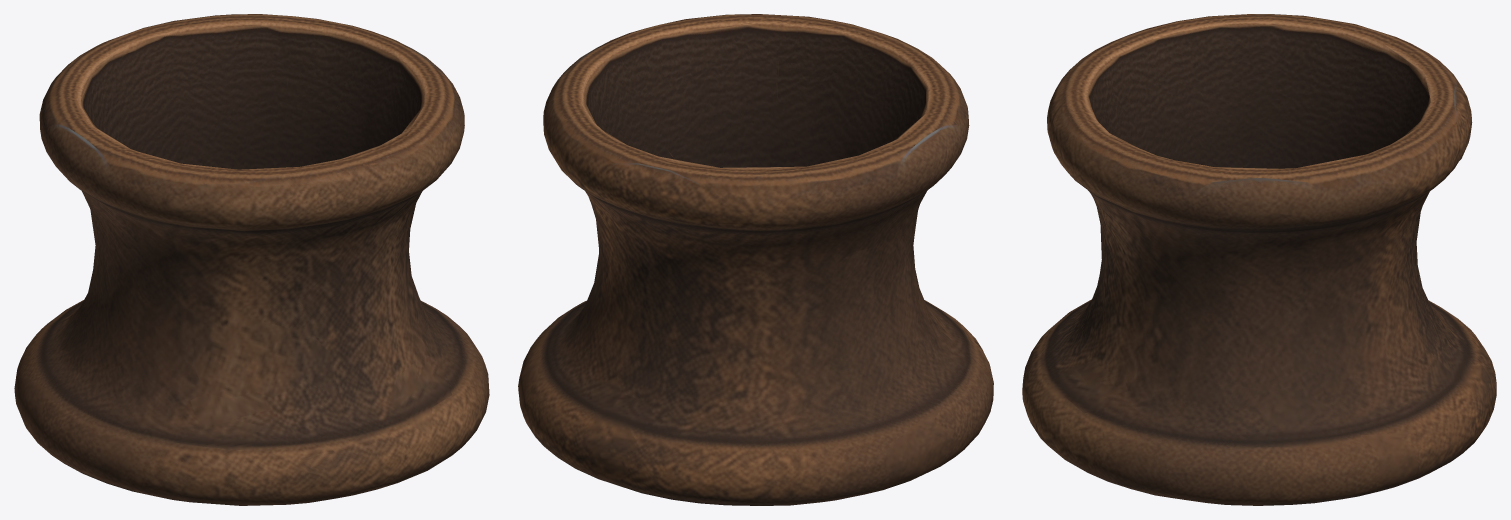
File: Crystal_Holder.glb
3 renders of one model, left to right at view 1: azimuth 30°, elevation 25°; view 2: azimuth 150°, elevation 25°; view 3: azimuth 270°, elevation 25°, orthographic.
Visible parts, largest first — view 1: Mesh_0; view 2: Mesh_0; view 3: Mesh_0.
Part boxes in pixels (x1,y1,x2,y2): Mesh_0: (14,14,489,505); Mesh_0: (518,14,993,505); Mesh_0: (1022,14,1496,505).
Bounding box in the file's own units: 1.9 × 1.41 × 1.9.
Materials: 1 (1 with a texture image).
